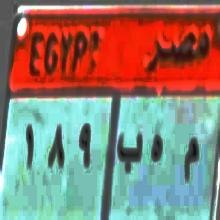1: (21, 118, 37, 176)
8: (44, 120, 64, 182)
9: (78, 120, 94, 175)
baa: (117, 129, 143, 181)
haa: (148, 129, 165, 173)
meem: (180, 128, 200, 186)
